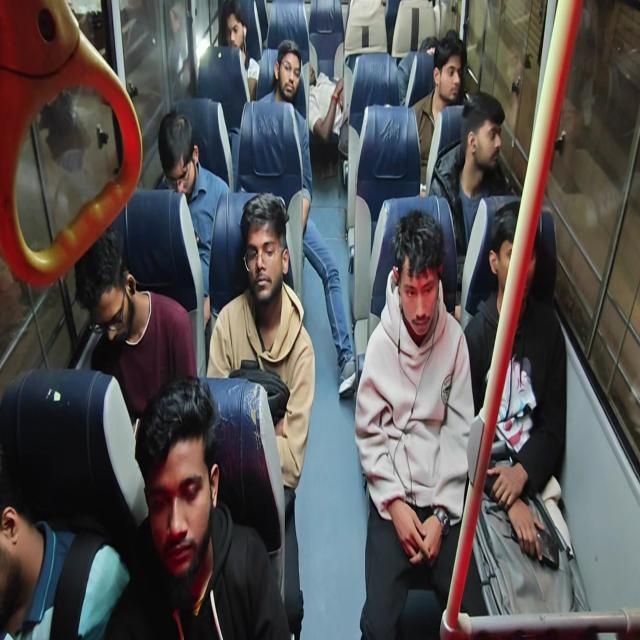person: (76, 224, 193, 436), (146, 412, 233, 618), (0, 431, 65, 640), (228, 184, 306, 340), (389, 197, 461, 345), (304, 53, 364, 197), (454, 75, 516, 187), (160, 103, 217, 221), (477, 228, 538, 334), (428, 35, 482, 132), (272, 55, 328, 122), (408, 10, 443, 72), (217, 10, 256, 63)
